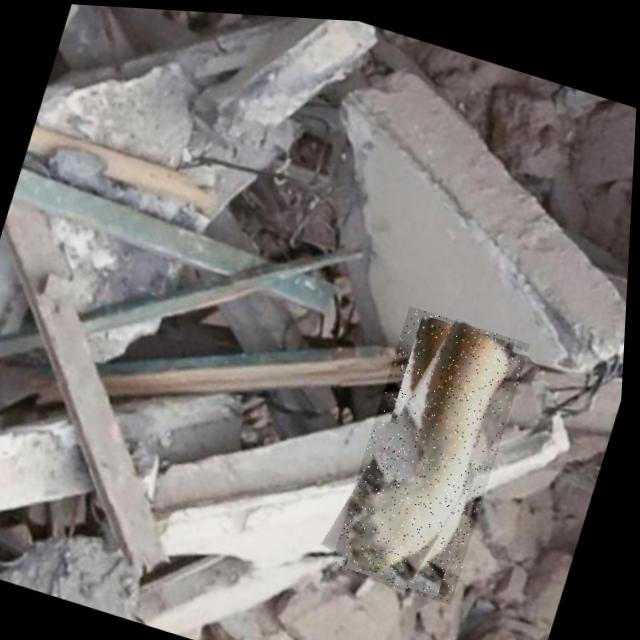Person in Rubble: (333, 298, 533, 601)
